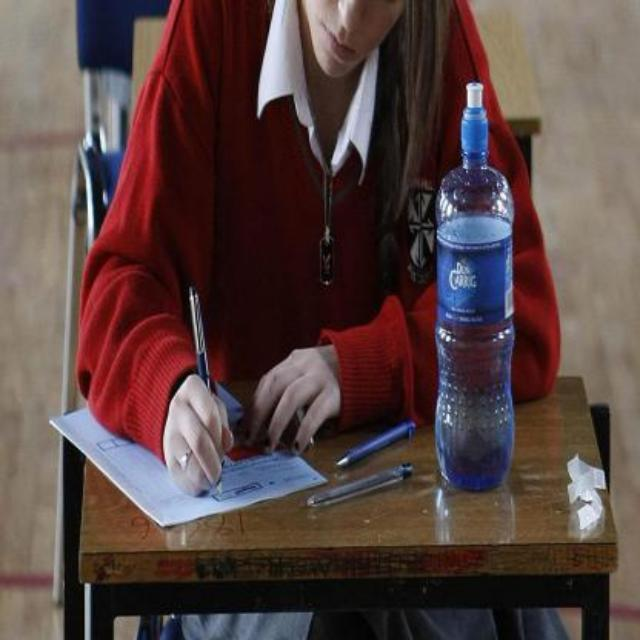bottle: (430, 70, 520, 506)
